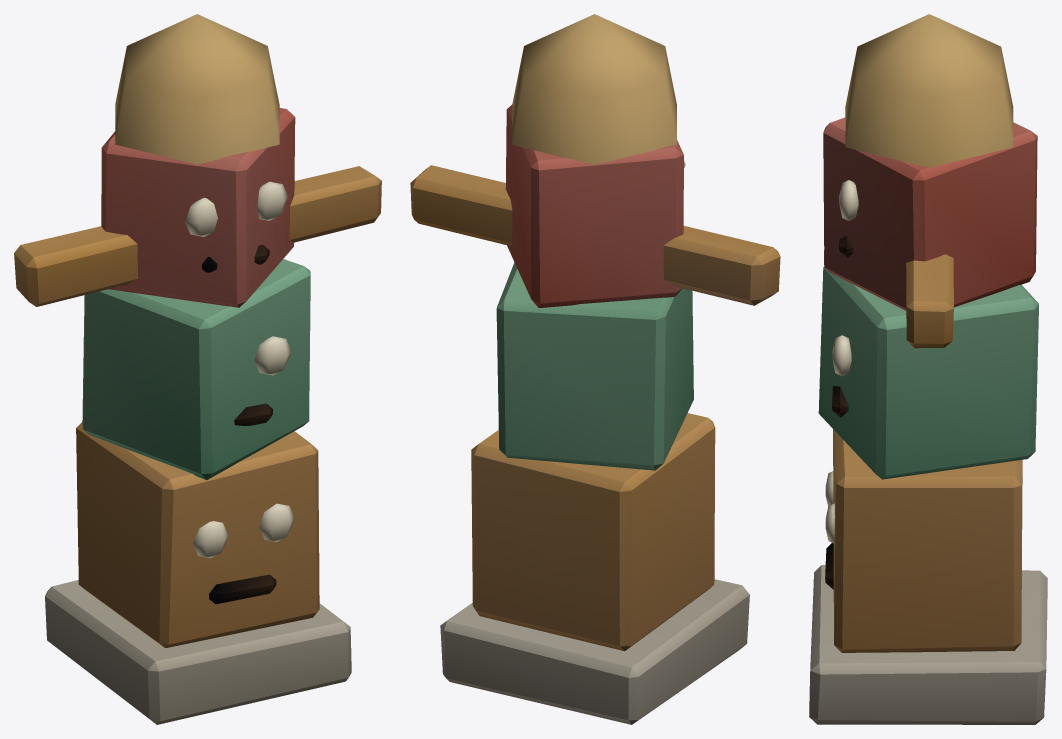
Rendered from world_landmark_totem_a.fbx.
The picture shows the model from 3 angles, left to right: view 1: azimuth 30°, elevation 25°; view 2: azimuth 150°, elevation 25°; view 3: azimuth 270°, elevation 25°; orthographic projection. The views are drawn at different scales.
Parts seen in each view (by area): view 1: world_landmark_totem_a; view 2: world_landmark_totem_a; view 3: world_landmark_totem_a.
Boxes of the visible parts, left/top/right/bottom form: world_landmark_totem_a: left=14, top=14, right=381, bottom=724; world_landmark_totem_a: left=410, top=14, right=780, bottom=724; world_landmark_totem_a: left=809, top=14, right=1047, bottom=724.
Size of the model in its own units: 303 by 530 by 172.
